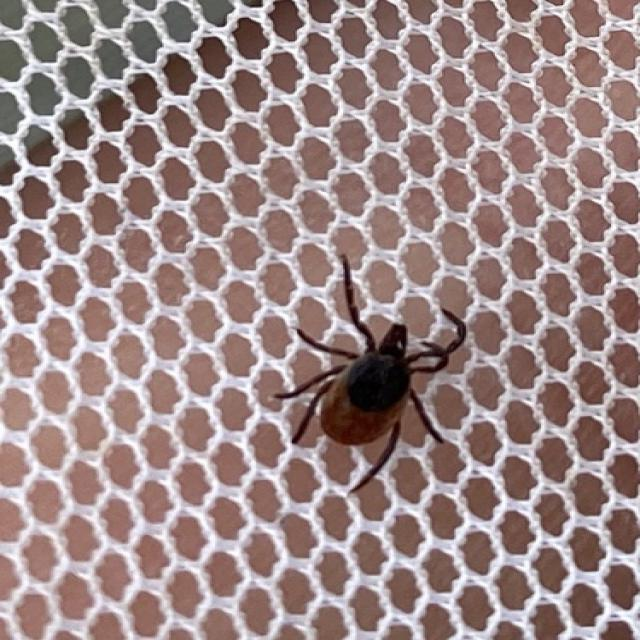Ixodes Ricinus-F: (275, 270, 468, 494)
